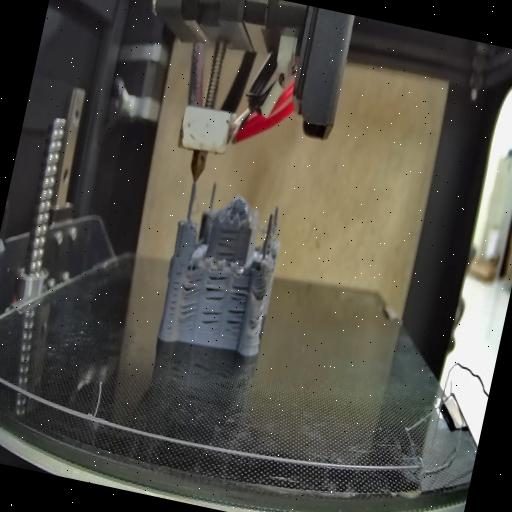cracks: (160, 266, 184, 332), (212, 218, 244, 264), (202, 269, 229, 302), (176, 300, 200, 329), (180, 269, 204, 296), (223, 306, 245, 333), (200, 304, 224, 328), (228, 278, 250, 304)
